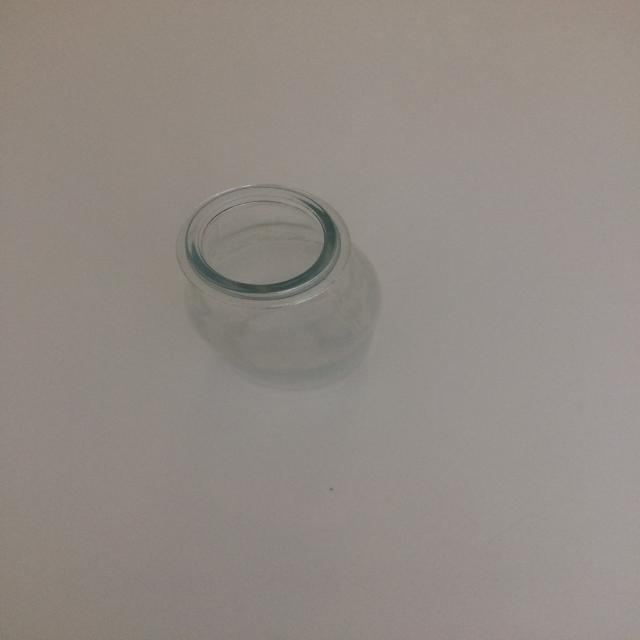Glass: (173, 175, 388, 396)
